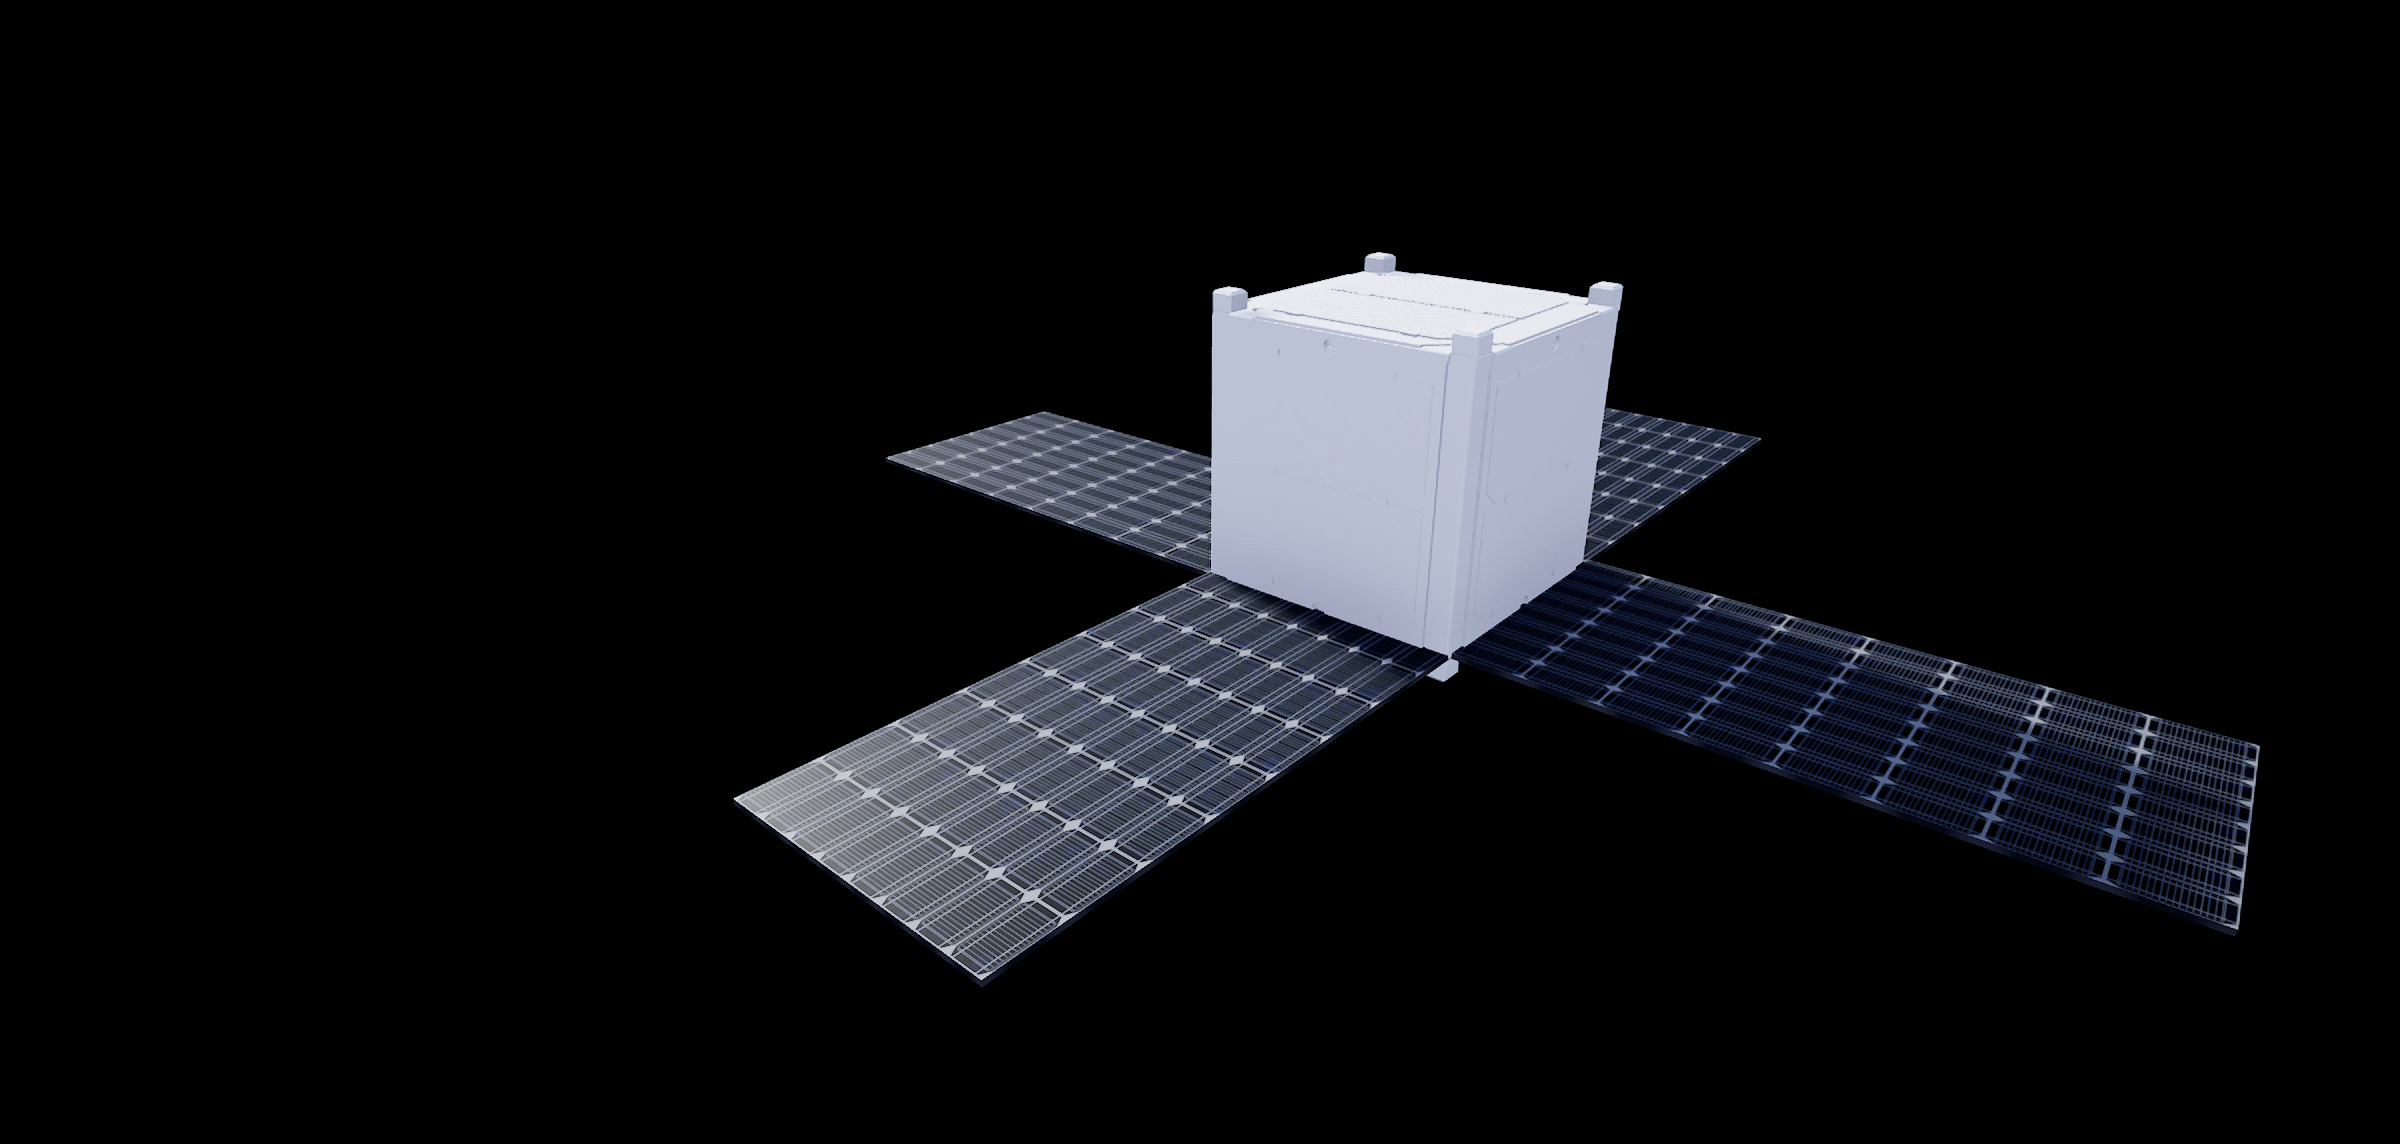satellite: (730, 162, 2290, 1020)
